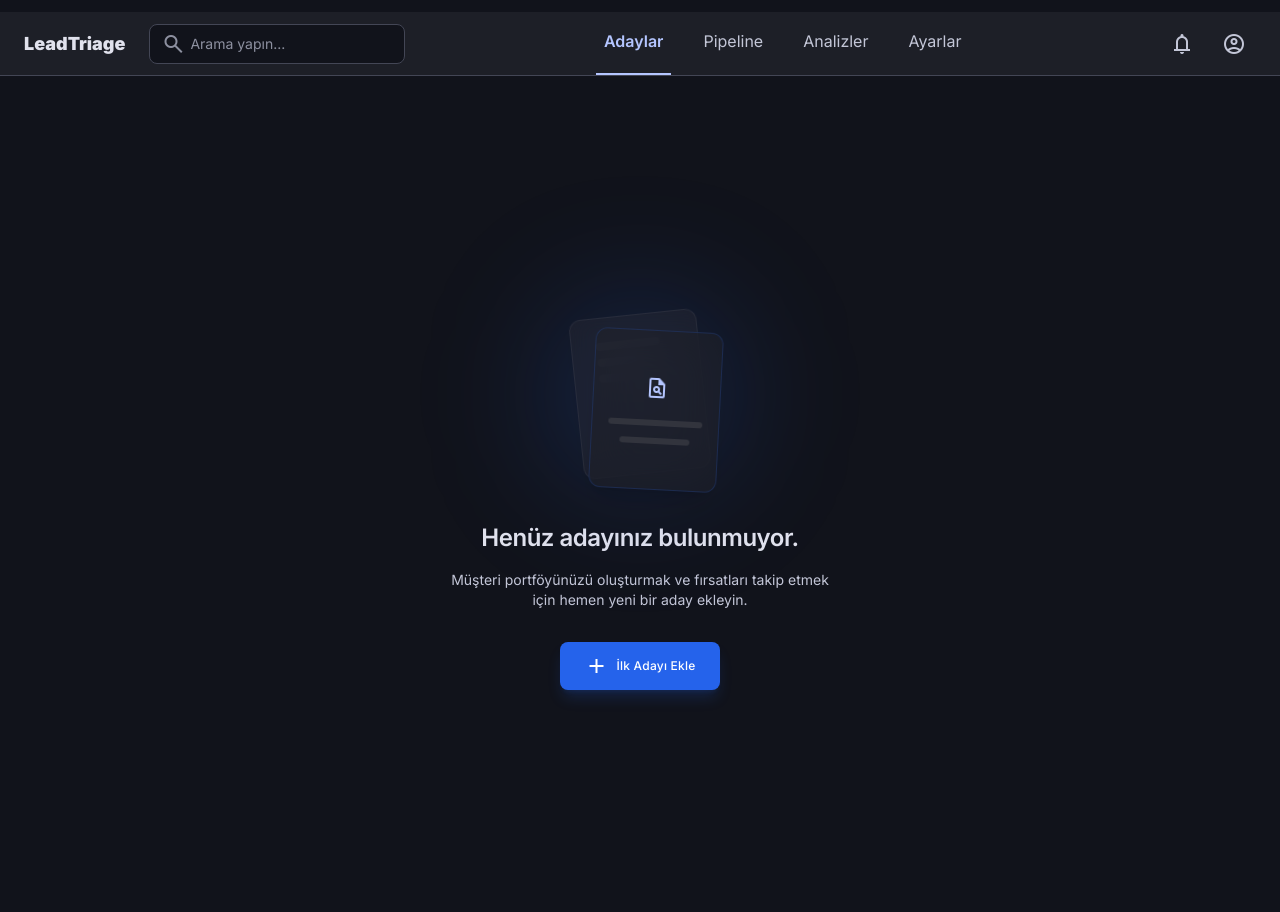
Test case: App › loads seed data from settings
This screenshot has width=1280, height=912.
Click the button "Ayarlar" at (935, 44), box [900,12,970,75]
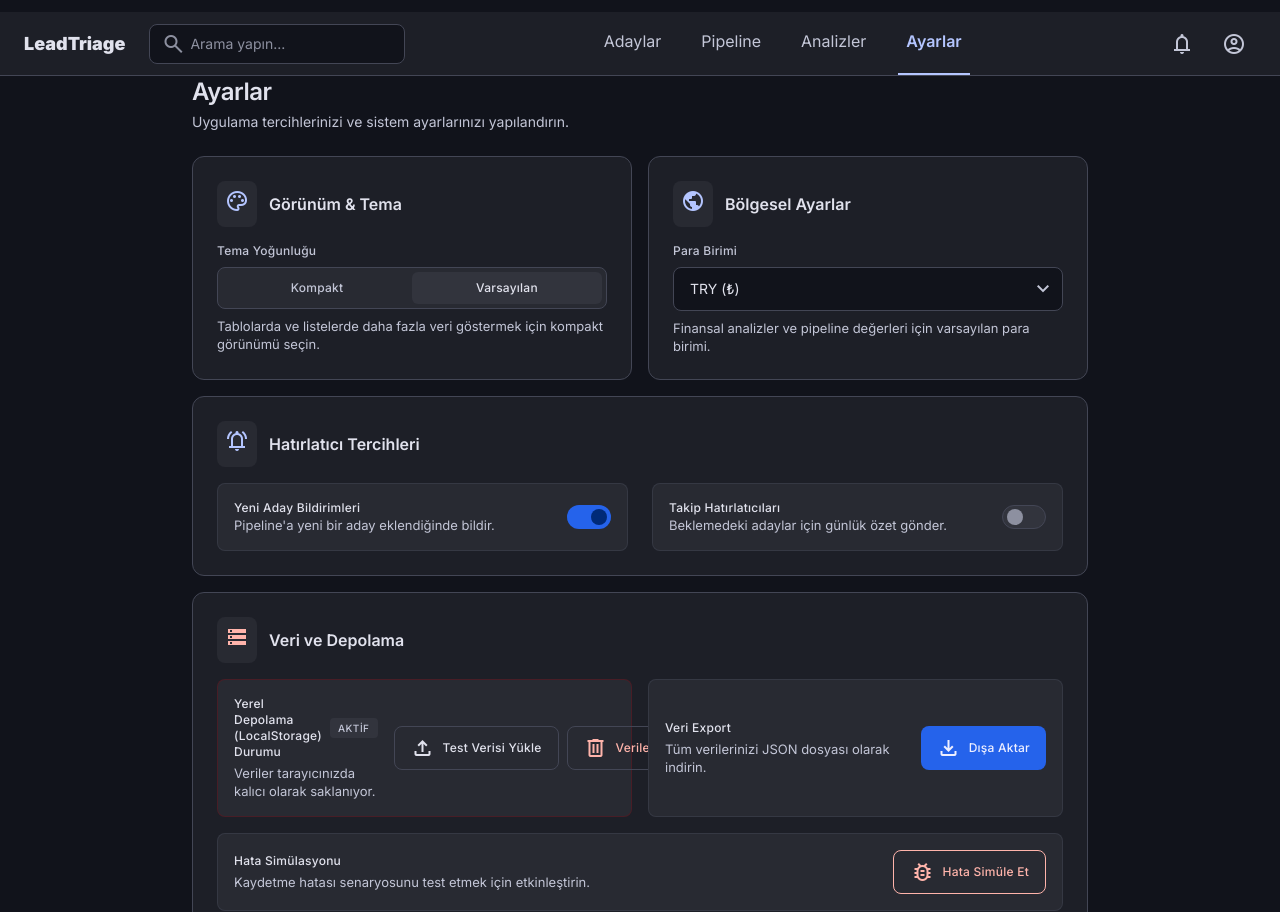
Click the button "Test Verisi Yükle" at (476, 748), box [394,726,558,770]
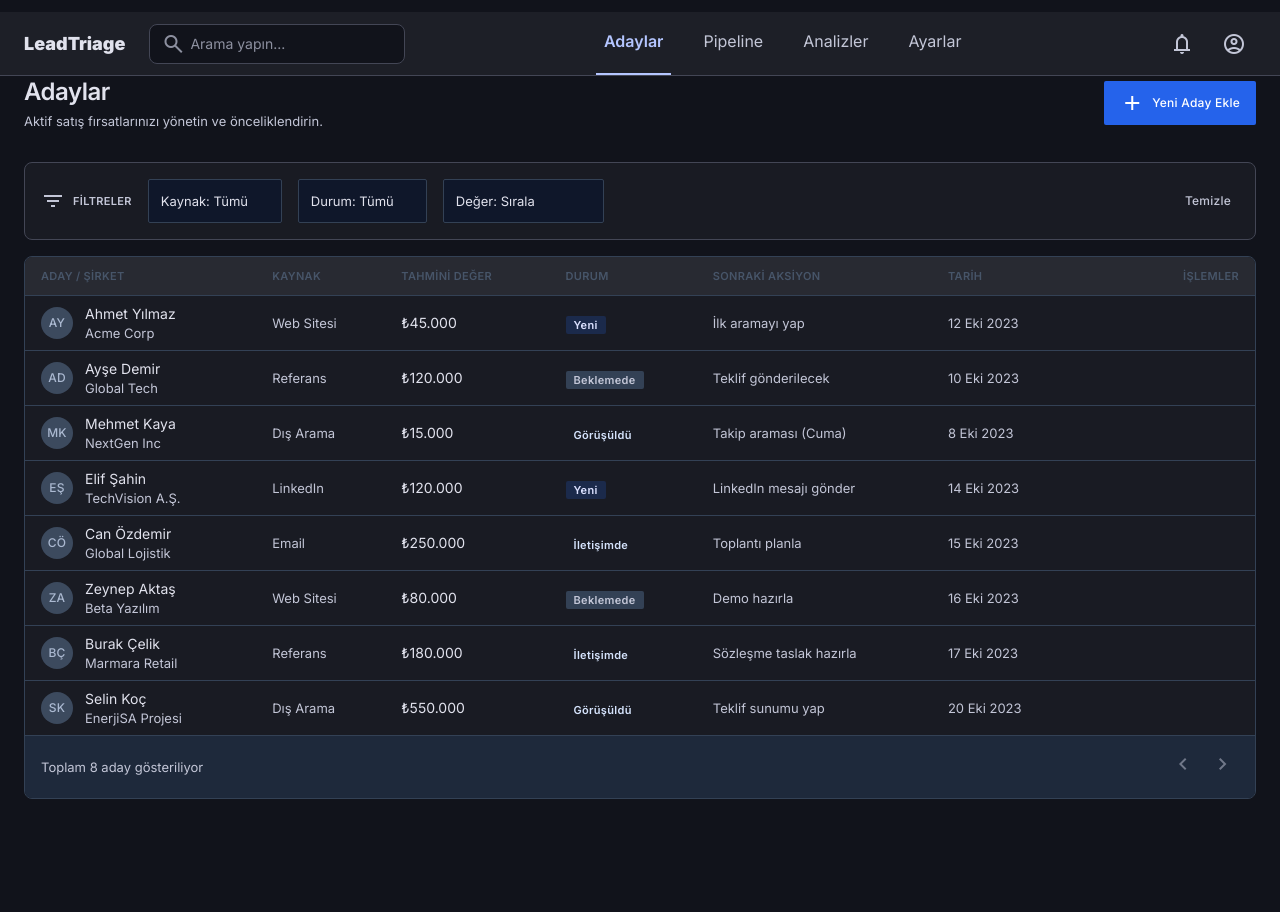
Result: the text "Ahmet Yılmaz" is shown at [85,304,176,324]
